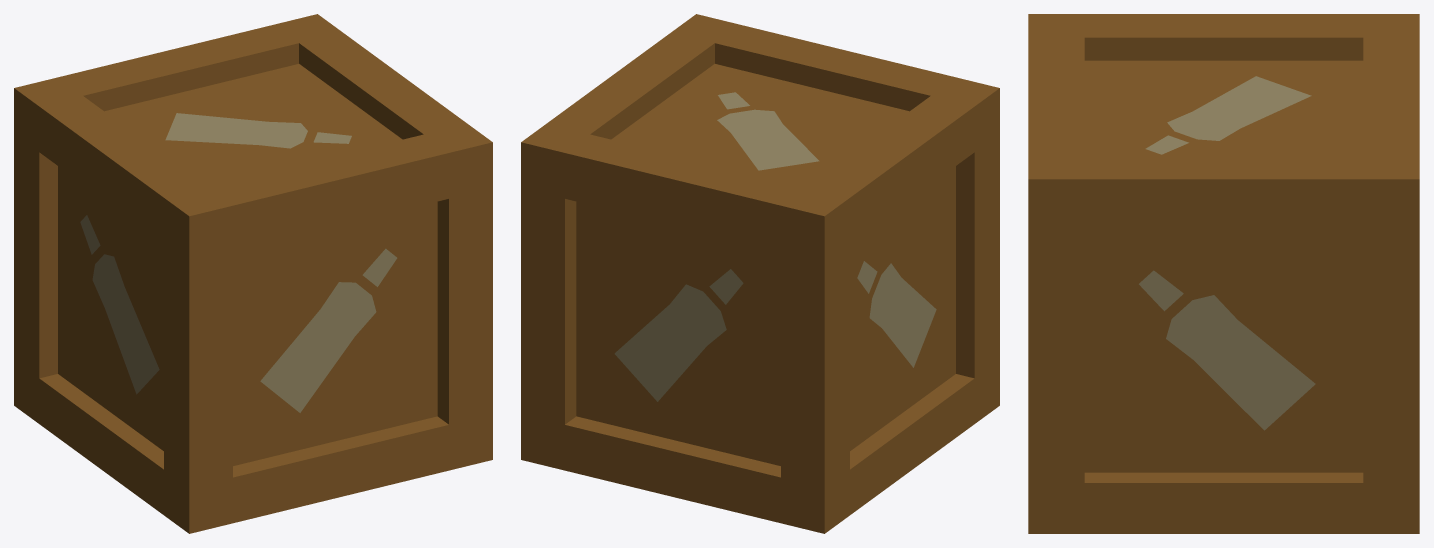
File: Wood box 1.fbx
The picture shows the model from 3 angles, left to right: view 1: azimuth 30°, elevation 25°; view 2: azimuth 150°, elevation 25°; view 3: azimuth 270°, elevation 25°; orthographic projection. The views are drawn at different scales.
Visible parts, largest first — view 1: Wood box 1; view 2: Wood box 1; view 3: Wood box 1.
Part boxes in pixels (bbox=[...]): Wood box 1: bbox=[14, 14, 492, 533]; Wood box 1: bbox=[521, 14, 999, 533]; Wood box 1: bbox=[1028, 14, 1419, 533].
Size of the model in its own units: 91 by 91 by 91.
